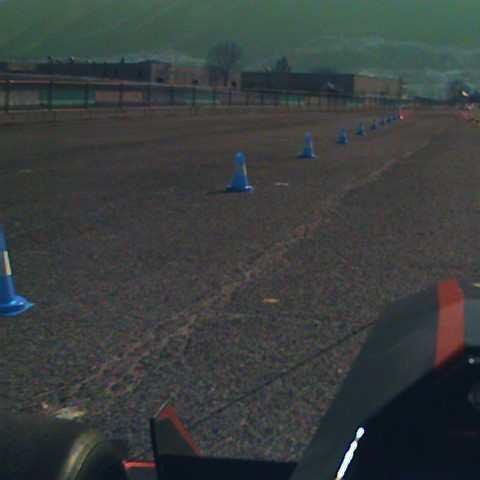cone: (1, 232, 35, 317), (228, 152, 252, 191), (300, 134, 316, 157), (339, 126, 349, 144), (356, 122, 364, 133), (373, 121, 377, 129)
